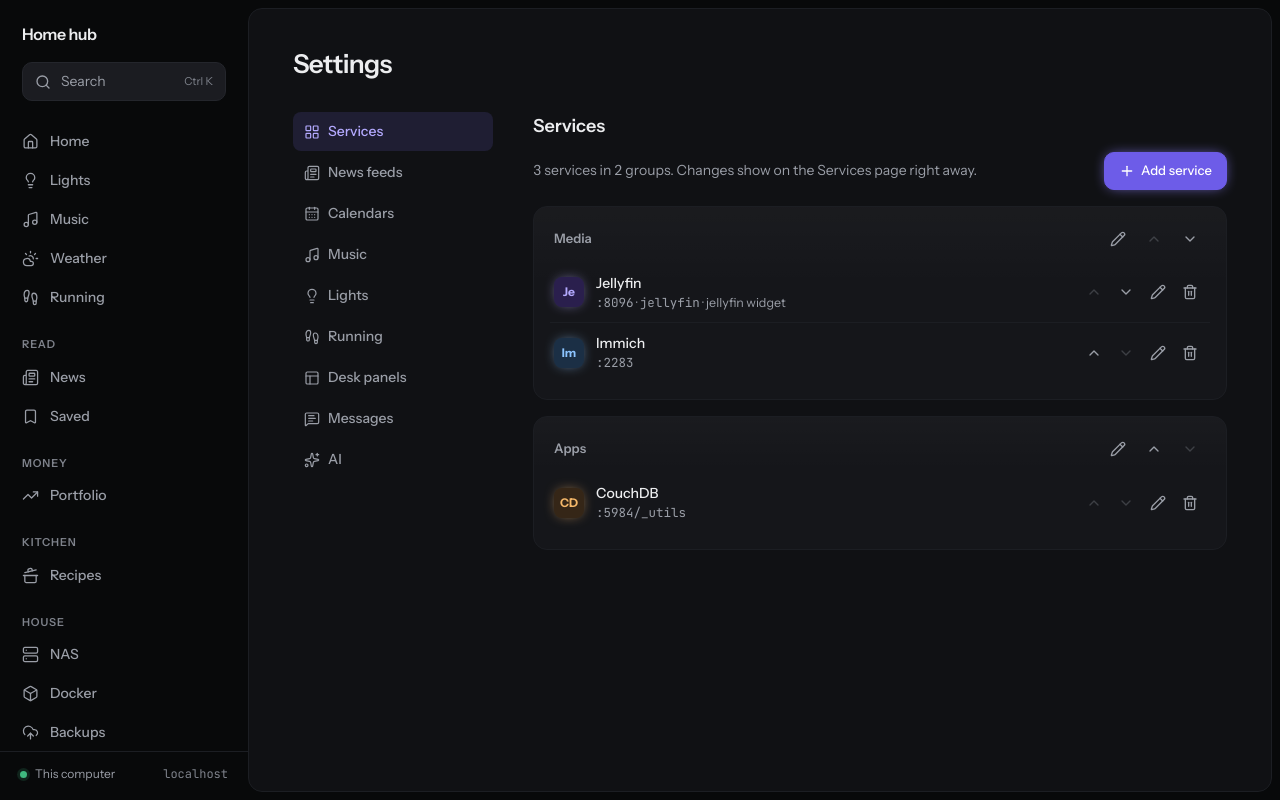
Scenario: SettingsPage services › asks before deleting
What coordinates should you click on to do the following:
click the button named "Delete Immich"
I would click on:
 (1190, 353)
Its box is [1174,337,1206,369].
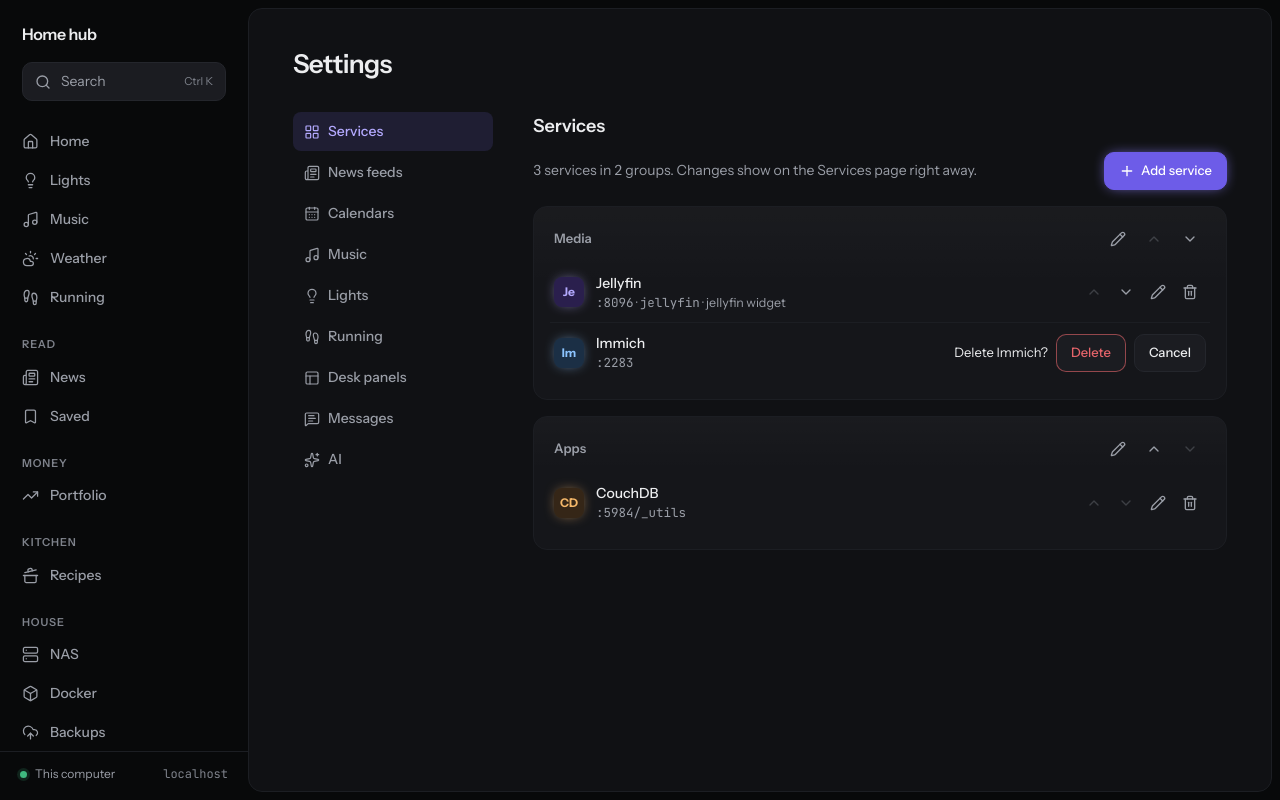
Result: the text "Delete Immich?" is shown at [954,343,1048,363]
What coordinates should you click on to do the following:
click the button "Cancel"
I would click on:
 (1170, 353)
Its box is [1134,334,1206,372].
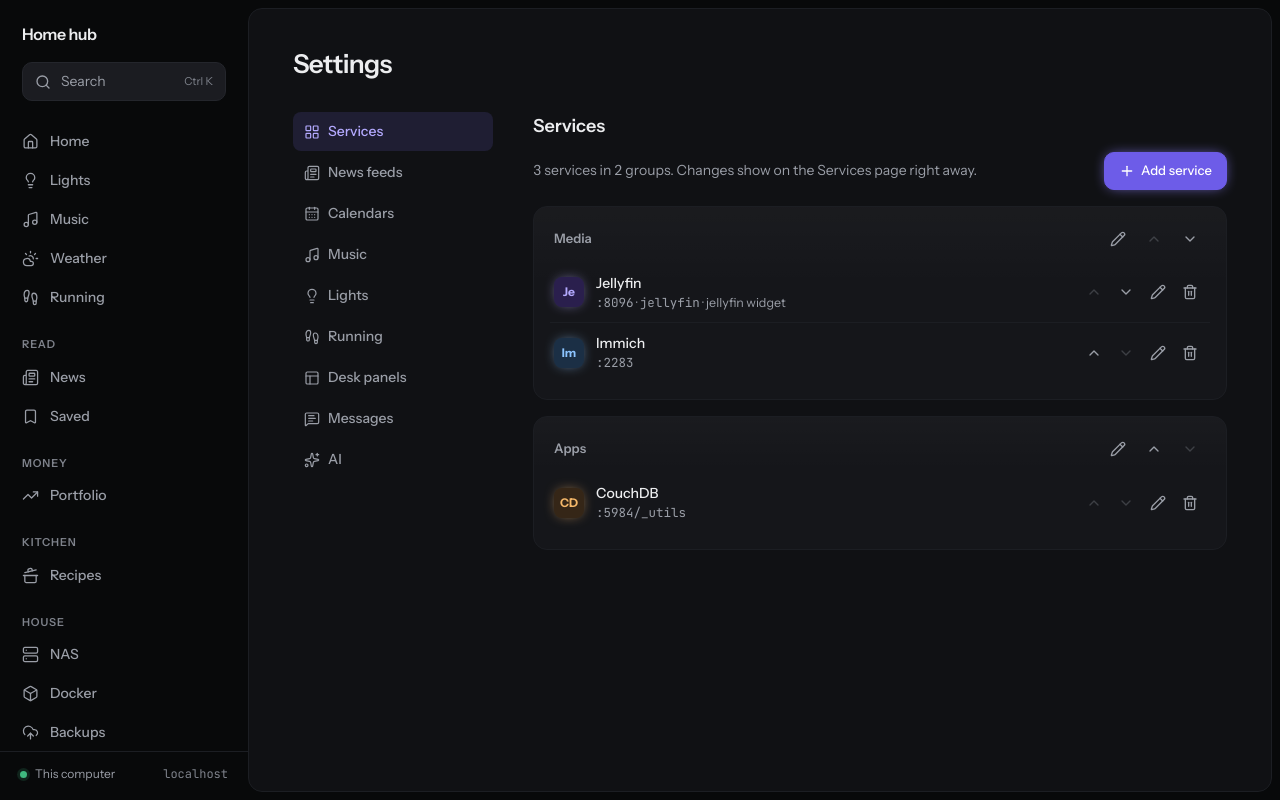
What coordinates should you click on to do the following:
click the button named "Delete Immich"
I would click on:
 (1190, 353)
Its box is [1174,337,1206,369].
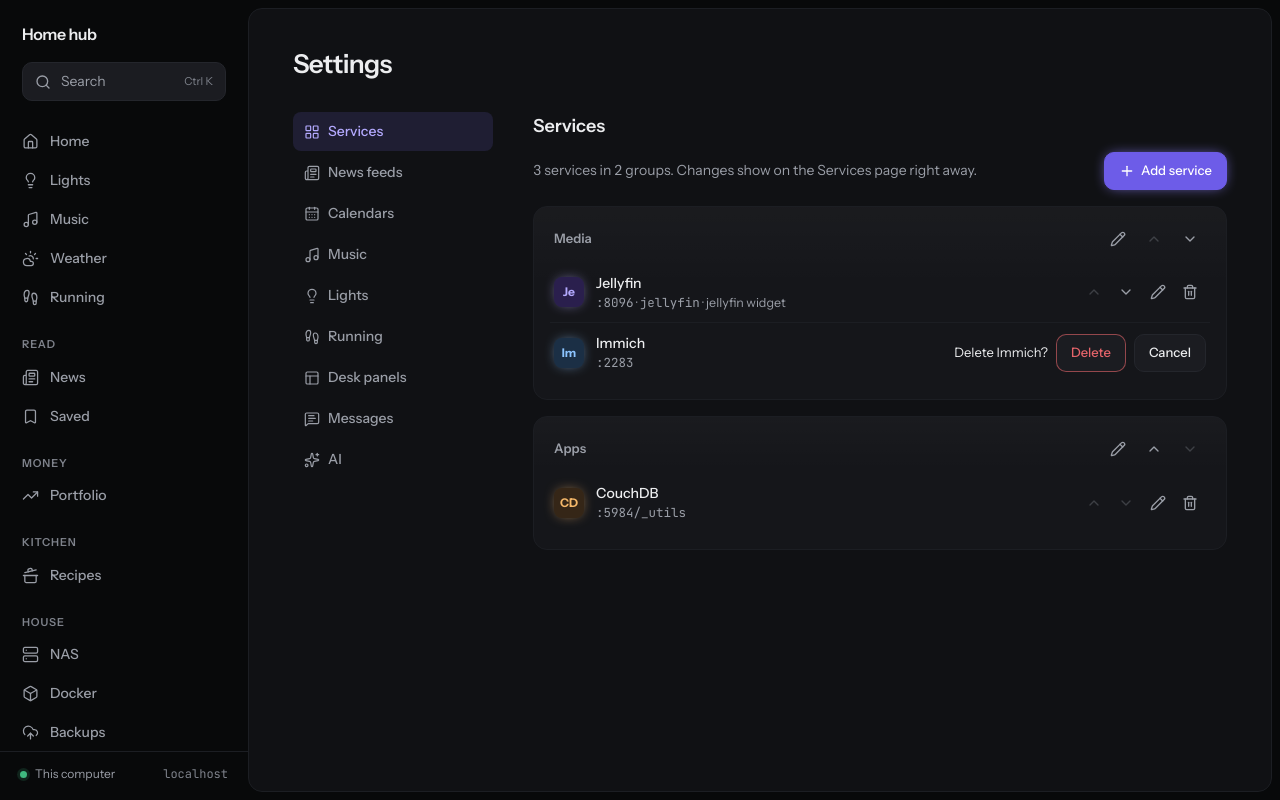
What coordinates should you click on to do the following:
click the button "Delete"
I would click on:
 (1091, 353)
Its box is [1056,334,1126,372].
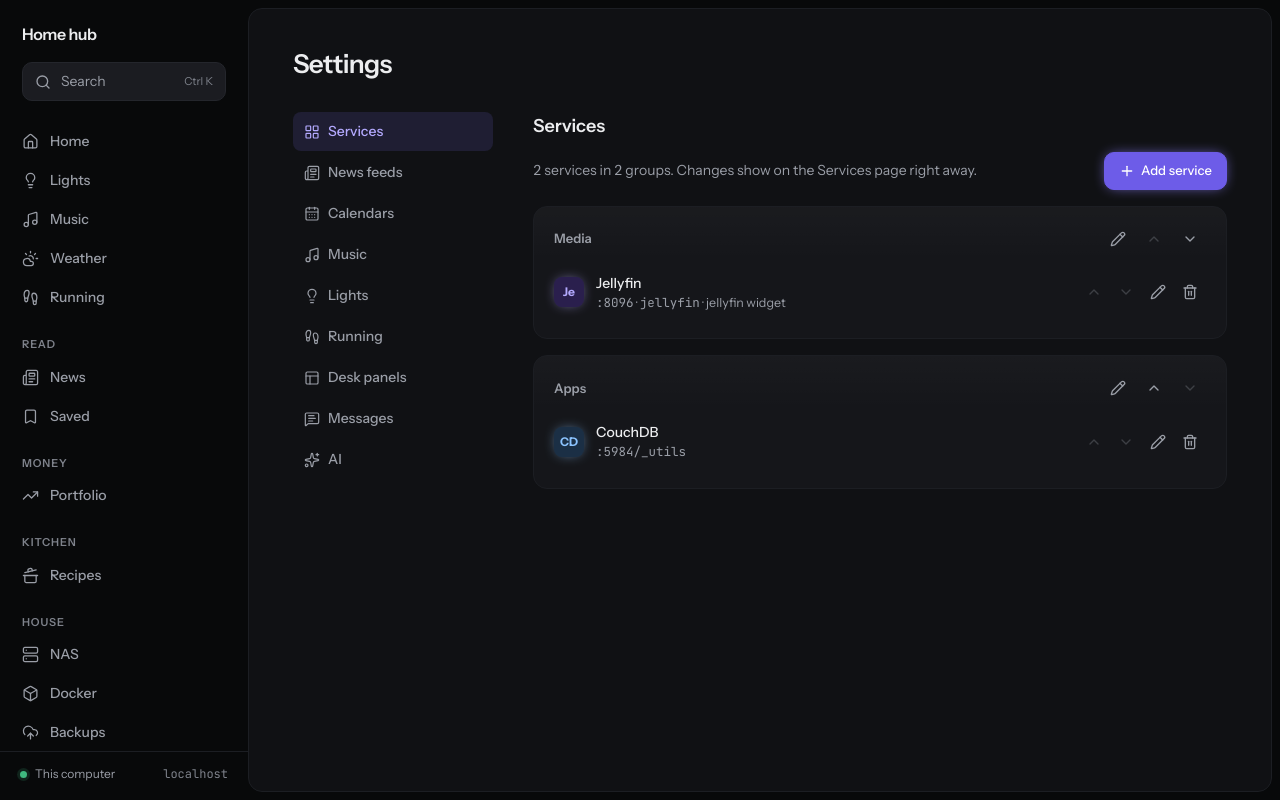
Result: the text "2 services in 2 groups." is shown at [533,160,977,181]
